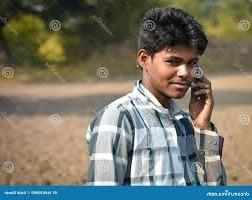Human: (91, 5, 229, 200)
